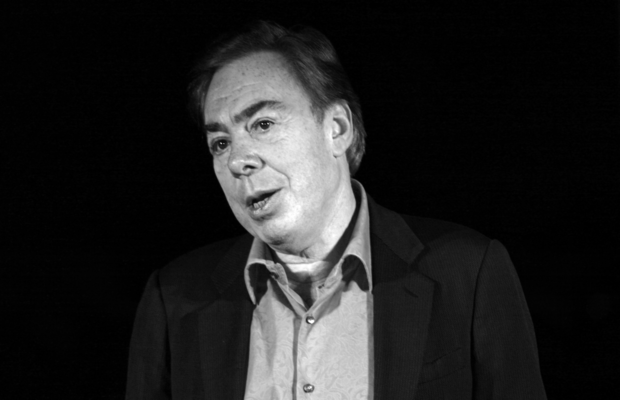stroke: (188, 93, 328, 232)
